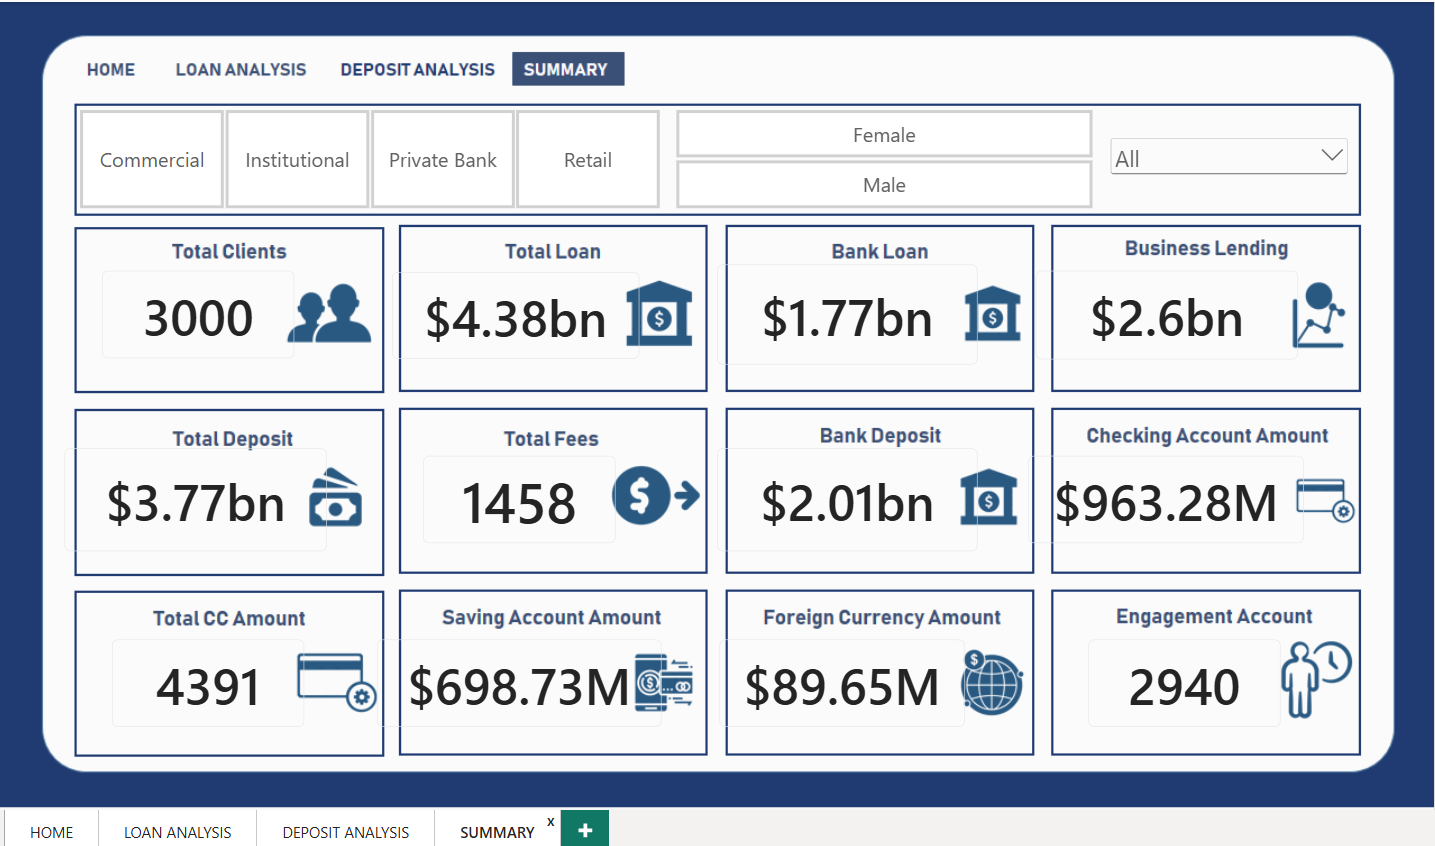

The dashboard page shown, as its layout file describes it:
{"tool":"powerbi","page":{"name":"SUMMARY","canvas":[1920,1080],"ordinal":3},"visuals":[{"type":"actionButton","box":[90.1,55.6,126.6,67.1],"z":0},{"type":"actionButton","box":[216.7,55.6,222.5,67.1],"z":1},{"type":"actionButton","box":[439.2,55.6,245.5,67.1],"z":2},{"type":"card","fields":{"Values":["CountNonNull(banking_case customer.Name)"]},"box":[140,358.7,257,117],"z":3},{"type":"card","fields":{"Values":["banking_case customer.Total Loan"]},"box":[527.6,361.2,330.6,116],"z":4},{"type":"card","fields":{"Values":["Sum(banking_case customer.Bank Loans)"]},"box":[961.1,350.3,348.1,133.5],"z":5},{"type":"card","fields":{"Values":["Sum(banking_case customer.Business Lending)"]},"box":[1388,359,350.3,118.2],"z":6},{"type":"card","fields":{"Values":["banking_case customer.Total Deposit"]},"box":[89.8,595.5,350.3,137.9],"z":7},{"type":"card","fields":{"Values":["banking_case customer.High Fee Clients"]},"box":[569.7,606.1,257,117],"z":8},{"type":"card","fields":{"Values":["Sum(banking_case customer.Bank Deposits)"]},"box":[961.1,595.5,348.1,137.9],"z":9},{"type":"card","fields":{"Values":["Sum(banking_case customer.Checking Accounts)"]},"box":[1377.1,606.4,368.3,117],"z":10},{"type":"card","fields":{"Values":["Sum(banking_case customer.Amount of Credit Cards)"]},"box":[153.4,851.6,257,117],"z":11},{"type":"card","fields":{"Values":["Sum(banking_case customer.Saving Accounts)"]},"box":[508.3,851.6,379.8,117],"z":12},{"type":"card","fields":{"Values":["Sum(banking_case customer.Foreign Currency Account)"]},"box":[964.8,851.6,328,117],"z":13},{"type":"card","fields":{"Values":["banking_case customer.Engagement Account"]},"box":[1457.7,851.6,257,117],"z":14},{"type":"slicer","fields":{"Values":["banking_case customer.BRId"]},"box":[89.8,142.3,814.4,135.7],"z":15},{"type":"slicer","fields":{"Values":["banking_case customer.GenderId"]},"box":[886.7,142.3,595.5,135.7],"z":16},{"type":"slicer","fields":{"Values":["banking_case customer.IAId"]},"box":[1482.1,177.3,326.2,100.7],"z":17}]}

Visuals, with their boxes on the page's 1920x1080 design canvas (x1, y1, x2, y2). These are canvas units, not pixel positions in the 1435x846 screenshot, which may show the page scaled, cropped or inside an application window:
actionButton: Rect(90, 56, 217, 123)
actionButton: Rect(217, 56, 439, 123)
actionButton: Rect(439, 56, 685, 123)
card - CountNonNull(banking_case customer.Name): Rect(140, 359, 397, 476)
card - banking_case customer.Total Loan: Rect(528, 361, 858, 477)
card - Sum(banking_case customer.Bank Loans): Rect(961, 350, 1309, 484)
card - Sum(banking_case customer.Business Lending): Rect(1388, 359, 1738, 477)
card - banking_case customer.Total Deposit: Rect(90, 596, 440, 733)
card - banking_case customer.High Fee Clients: Rect(570, 606, 827, 723)
card - Sum(banking_case customer.Bank Deposits): Rect(961, 596, 1309, 733)
card - Sum(banking_case customer.Checking Accounts): Rect(1377, 606, 1745, 723)
card - Sum(banking_case customer.Amount of Credit Cards): Rect(153, 852, 410, 969)
card - Sum(banking_case customer.Saving Accounts): Rect(508, 852, 888, 969)
card - Sum(banking_case customer.Foreign Currency Account): Rect(965, 852, 1293, 969)
card - banking_case customer.Engagement Account: Rect(1458, 852, 1715, 969)
slicer - banking_case customer.BRId: Rect(90, 142, 904, 278)
slicer - banking_case customer.GenderId: Rect(887, 142, 1482, 278)
slicer - banking_case customer.IAId: Rect(1482, 177, 1808, 278)
